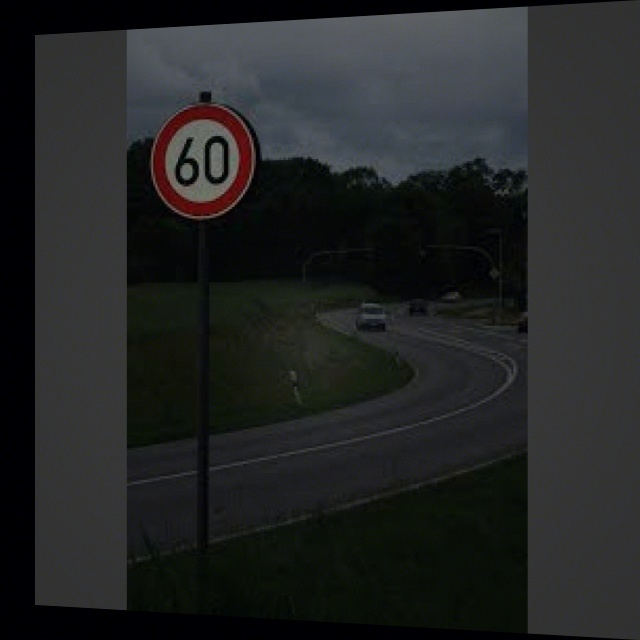Speed_Limit_60: (150, 98, 256, 219)
